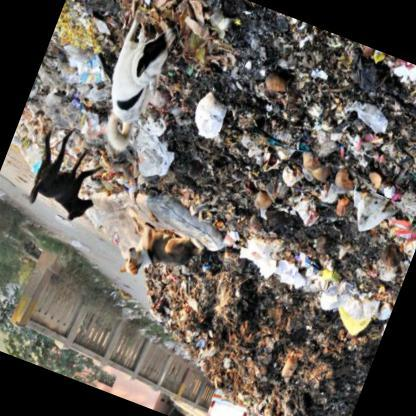Garbage: (115, 0, 415, 316), (217, 13, 415, 245), (161, 228, 396, 415), (206, 188, 397, 342), (143, 0, 274, 168), (27, 0, 155, 127)
